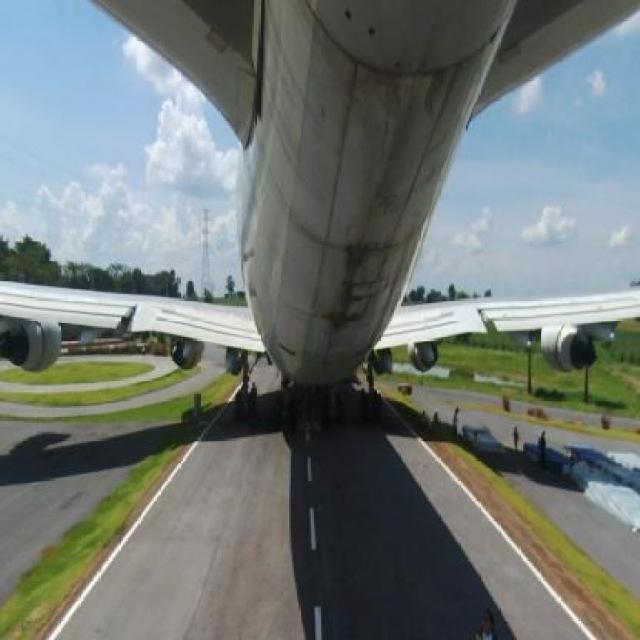Scartch: (353, 49, 441, 194), (312, 194, 391, 334)
